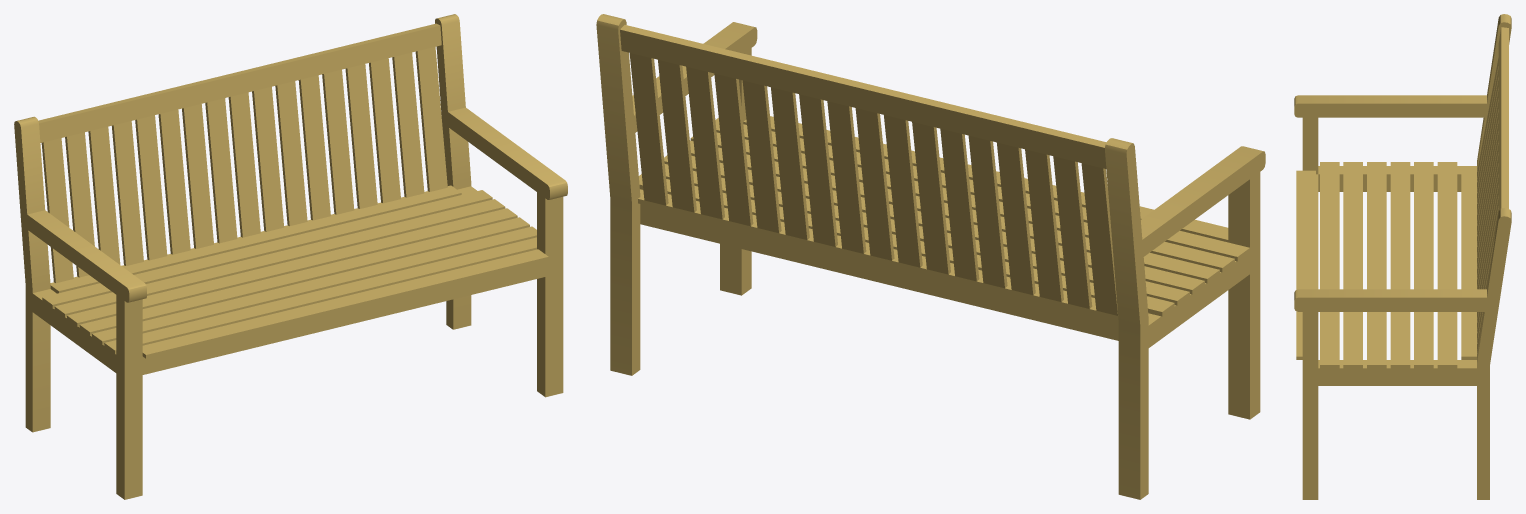
Rendered from SM_Bench.fbx.
3 views of the same model, side by side, from view 1: azimuth 30°, elevation 25°; view 2: azimuth 150°, elevation 25°; view 3: azimuth 270°, elevation 25° (orthographic). The views are drawn at different scales.
Parts seen in each view (by area): view 1: SM_Bench; view 2: SM_Bench; view 3: SM_Bench.
Boxes of the visible parts, x1,y1,x2,y2 form: SM_Bench: (14, 14, 567, 499); SM_Bench: (596, 14, 1265, 499); SM_Bench: (1294, 14, 1511, 499).
Size of the model in its own units: 122 by 79.75 by 55.41.
